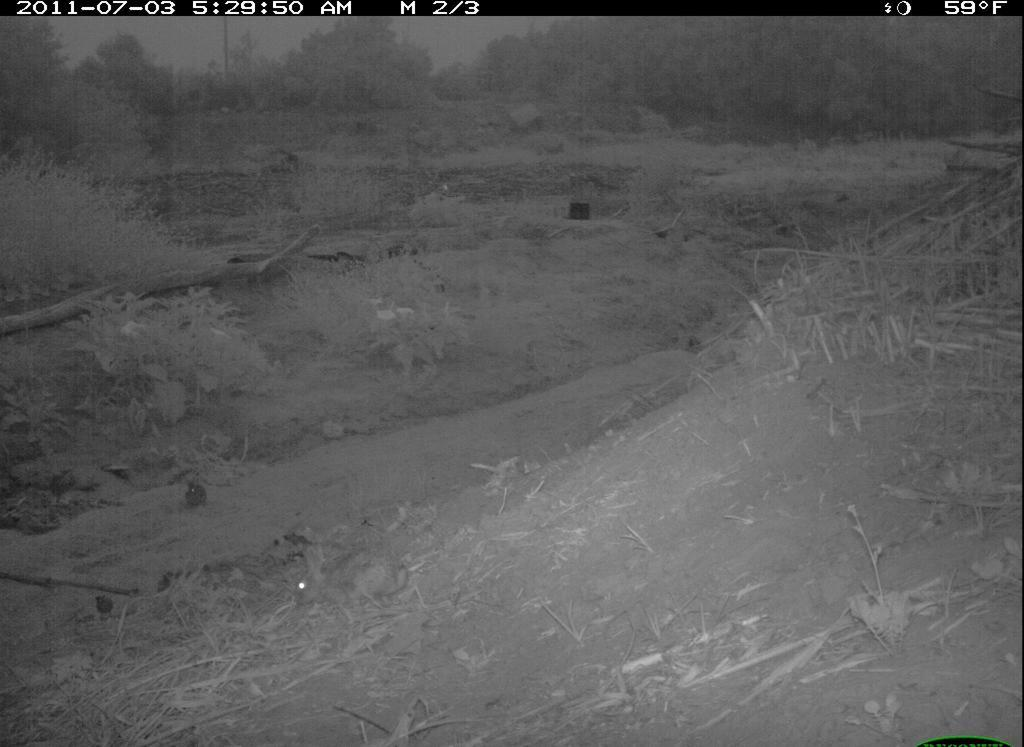rabbit: (282, 543, 433, 624), (178, 460, 227, 532)
